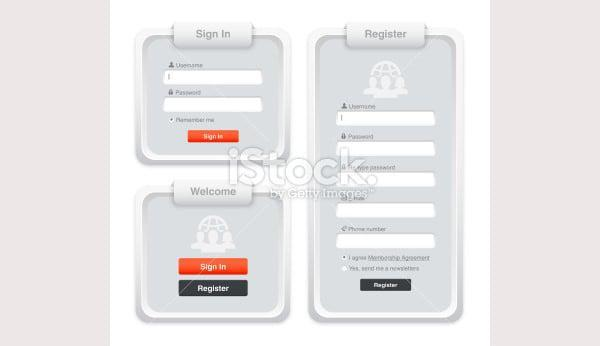button: (179, 258, 250, 277), (178, 280, 249, 299), (186, 130, 241, 145), (361, 279, 413, 293)
icon: (339, 194, 348, 204), (167, 61, 176, 69), (341, 103, 349, 111), (341, 224, 348, 233), (341, 164, 347, 174), (341, 134, 347, 142), (169, 90, 175, 97)
input: (164, 97, 265, 116), (335, 141, 438, 159), (335, 111, 437, 129), (336, 203, 438, 220), (165, 71, 265, 88), (336, 234, 439, 250), (337, 173, 437, 189)
label: (351, 265, 422, 275), (349, 255, 433, 263), (349, 165, 398, 173), (349, 225, 389, 233), (177, 118, 217, 125), (175, 62, 206, 70), (347, 134, 376, 141), (176, 90, 204, 97), (349, 105, 378, 111), (351, 198, 367, 204)
radio: (342, 253, 349, 263), (169, 117, 176, 125), (343, 265, 349, 274)
